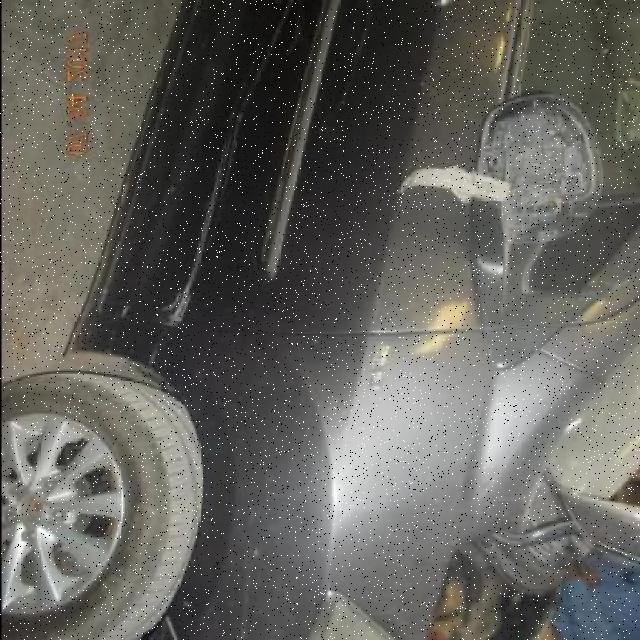damage: (142, 3, 288, 370)
